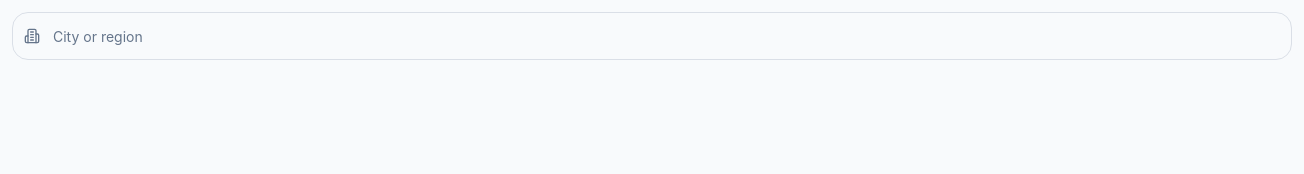
Test case: HotelDestinationCombobox › shows Sydney as a suggestion when typing 'syd'
The image size is (1304, 174).
Type "syd" into the dropdown at (652, 36), box [12,12,1292,60]
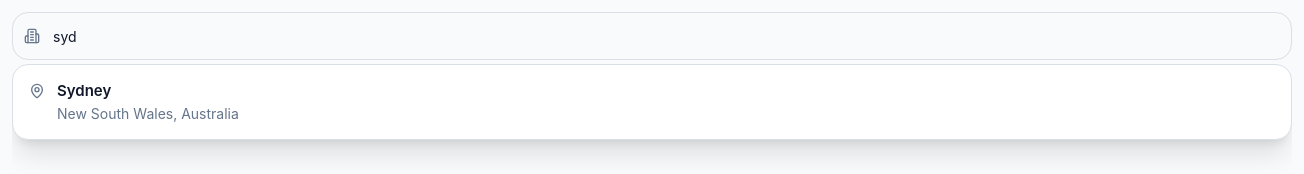
Result: the list is shown at [13,65,1291,139]
Result: the option "Sydney New South Wales, Australia" is shown at [13,69,1291,135]
